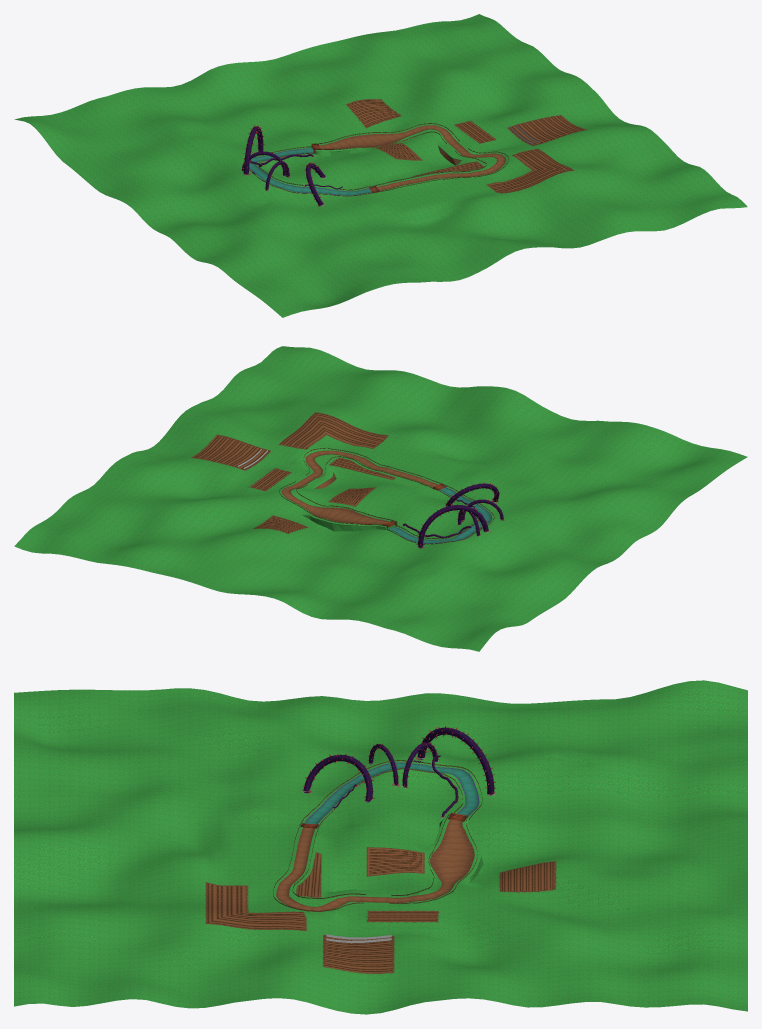
File: Terrain.FBX
3 views of the same model, one above another, from view 1: azimuth 30°, elevation 25°; view 2: azimuth 150°, elevation 25°; view 3: azimuth 270°, elevation 25° (orthographic). The views are drawn at different scales.
Parts seen in each view (by area): view 1: Terrain, Road, Railing; view 2: Terrain, Road, Taint_Vine002, Railing; view 3: Terrain, Road, Taint_Vine002, Taint_Vine006, Railing.
Part boxes in pixels (x1=…): Terrain: x1=14, y1=14, x2=747, y2=317; Road: x1=249, y1=125, x2=506, y2=195; Railing: x1=243, y1=123, x2=508, y2=196; Terrain: x1=14, y1=346, x2=747, y2=651; Road: x1=281, y1=450, x2=491, y2=543; Taint_Vine002: x1=416, y1=503, x2=488, y2=548; Railing: x1=279, y1=448, x2=494, y2=544; Terrain: x1=14, y1=680, x2=747, y2=1014; Road: x1=275, y1=762, x2=479, y2=911; Taint_Vine002: x1=417, y1=725, x2=495, y2=795; Taint_Vine006: x1=303, y1=753, x2=374, y2=802; Railing: x1=273, y1=760, x2=482, y2=911.
Size of the model in its own units: 13464 by 1340 by 13464.
